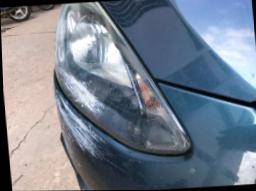Bumper: (47, 78, 140, 191)
Light: (47, 2, 190, 151)
